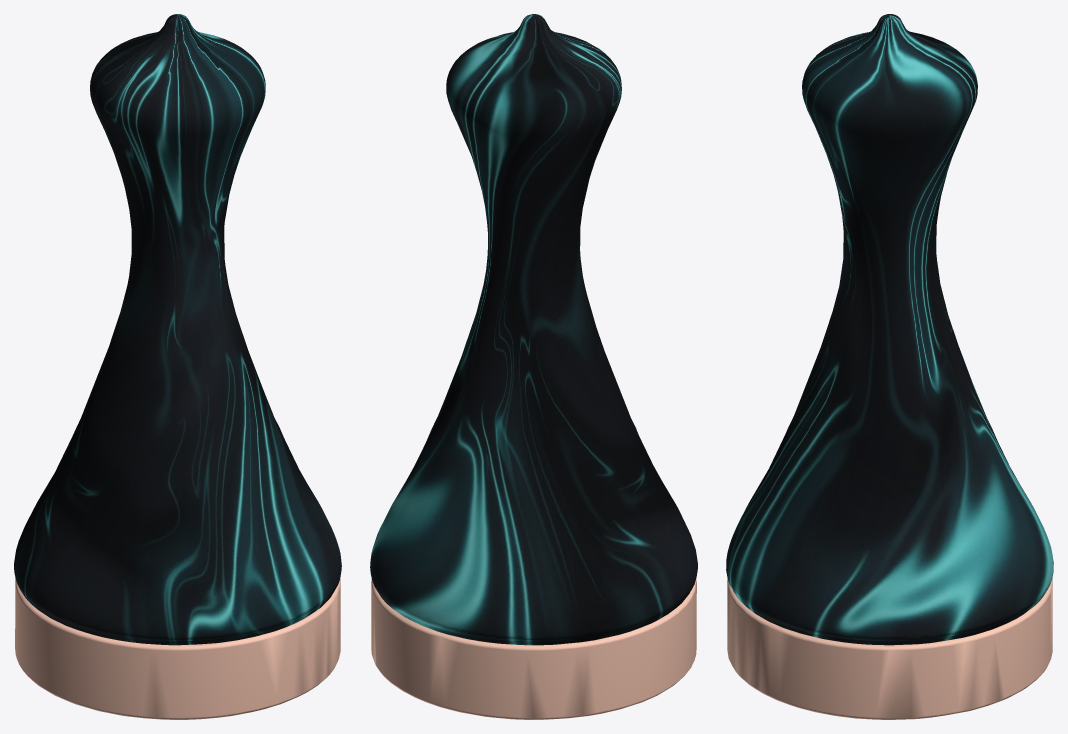
File: queen-black.glb
3 views of the same model, side by side, from view 1: azimuth 30°, elevation 25°; view 2: azimuth 150°, elevation 25°; view 3: azimuth 270°, elevation 25° (orthographic).
Visible parts, largest first — view 1: dama_cerna; view 2: dama_cerna; view 3: dama_cerna.
Boxes of the visible parts, x1,y1,x2,y2 form: dama_cerna: [14, 14, 341, 719]; dama_cerna: [370, 14, 697, 719]; dama_cerna: [726, 14, 1053, 719].
Size of the model in its own units: 0.6755 by 1.45 by 0.6752.
2 materials, 1 textured.
